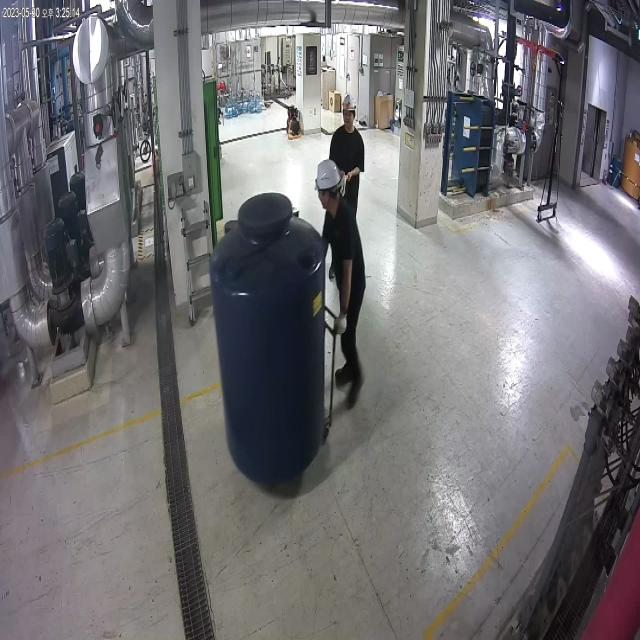Water Tank: (204, 187, 334, 493)
worker: (308, 152, 384, 424), (326, 92, 376, 268)
